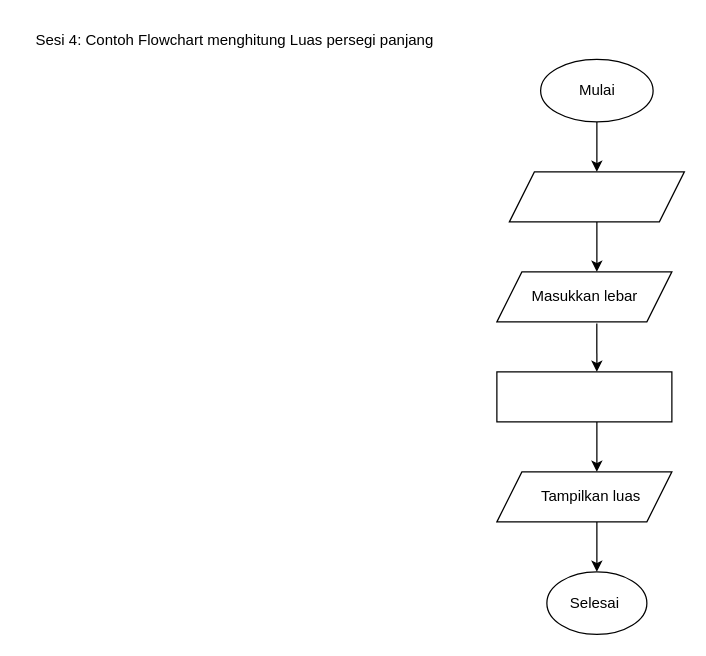
Image size: 706x656. Some labels were removed from this diagram. Each missing label, with the centre of its shape:
luas = p x l: the point at 584,396
Masukkan panjang: the point at 596,196
